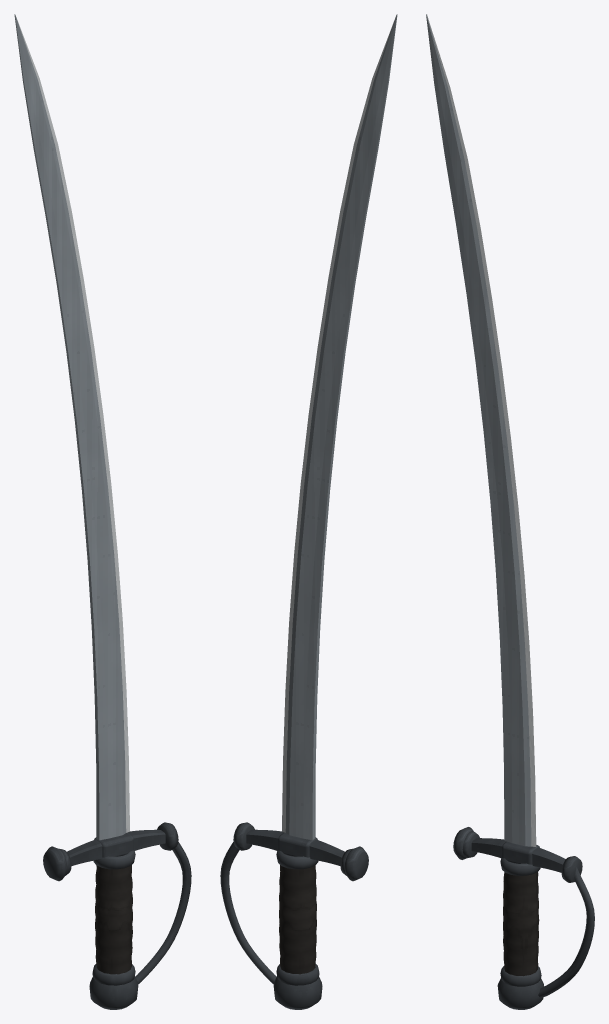
File: saber.lod1.glb
3 renders of one model, left to right at view 1: azimuth 30°, elevation 25°; view 2: azimuth 150°, elevation 25°; view 3: azimuth 330°, elevation 25°, orthographic. The views are drawn at different scales.
Visible parts, largest first — view 1: steel / forged blade steel, darksteel / oil-blackened fittings, leather / oiled leather wrap, edge / honed bright bevel; view 2: steel / forged blade steel, darksteel / oil-blackened fittings, leather / oiled leather wrap, edge / honed bright bevel; view 3: steel / forged blade steel, darksteel / oil-blackened fittings, edge / honed bright bevel, leather / oiled leather wrap.
Boxes of the visible parts, left/top/right/bottom form: steel / forged blade steel: left=14, top=14, right=126, bottom=840; darksteel / oil-blackened fittings: left=43, top=822, right=191, bottom=1009; leather / oiled leather wrap: left=95, top=865, right=132, bottom=974; edge / honed bright bevel: left=17, top=20, right=129, bottom=832; steel / forged blade steel: left=285, top=14, right=397, bottom=840; darksteel / oil-blackened fittings: left=220, top=822, right=368, bottom=1009; leather / oiled leather wrap: left=279, top=865, right=316, bottom=974; edge / honed bright bevel: left=282, top=20, right=394, bottom=832; steel / forged blade steel: left=426, top=14, right=531, bottom=846; darksteel / oil-blackened fittings: left=453, top=827, right=594, bottom=1009; edge / honed bright bevel: left=426, top=14, right=536, bottom=846; leather / oiled leather wrap: left=503, top=872, right=539, bottom=976.
Bounding box in the file's own units: 0.1818 × 0.995 × 0.044.
Materials: 4 (4 with a texture image).
